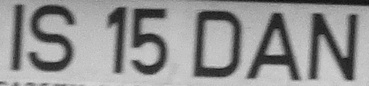1: (98, 1, 130, 77)
5: (129, 4, 170, 77)
A: (245, 4, 300, 81)
D: (187, 4, 243, 86)
I: (4, 1, 30, 74)
N: (306, 8, 363, 84)
S: (28, 1, 78, 76)
